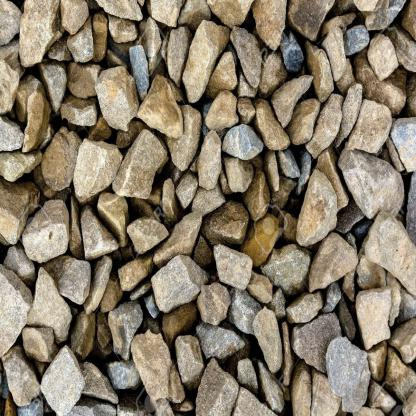Sedimentary_Limestone: (335, 146, 407, 221), (362, 206, 415, 299), (110, 119, 164, 207), (67, 131, 124, 213), (322, 330, 371, 416), (131, 325, 182, 407), (352, 282, 400, 362), (184, 18, 223, 114), (92, 65, 145, 134), (292, 165, 334, 248), (19, 199, 74, 262), (140, 68, 182, 143), (38, 344, 82, 415), (149, 254, 200, 312), (26, 270, 73, 331), (194, 354, 239, 416), (248, 303, 287, 374), (20, 79, 51, 157), (213, 236, 253, 295), (194, 132, 225, 192), (223, 152, 254, 210), (248, 176, 277, 224), (244, 216, 287, 248)
